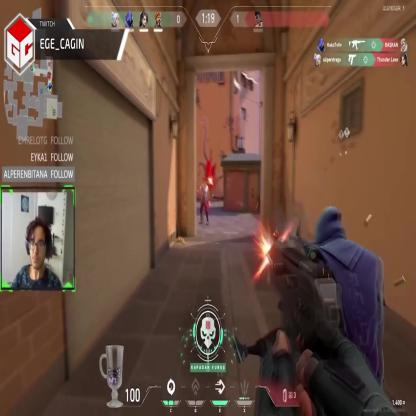enemy: (199, 178, 210, 223)
enemy_head: (202, 178, 206, 187)
